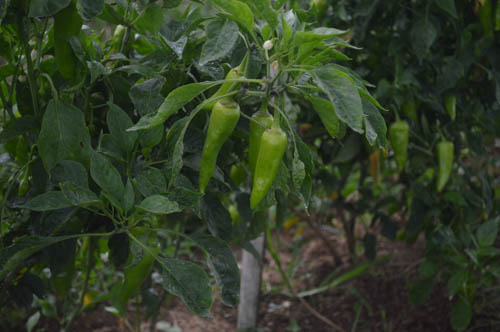ChiliPepper: (199, 100, 241, 195), (244, 131, 287, 207), (116, 240, 157, 304), (197, 70, 243, 110), (248, 116, 272, 170), (433, 142, 453, 194), (389, 123, 409, 172)
